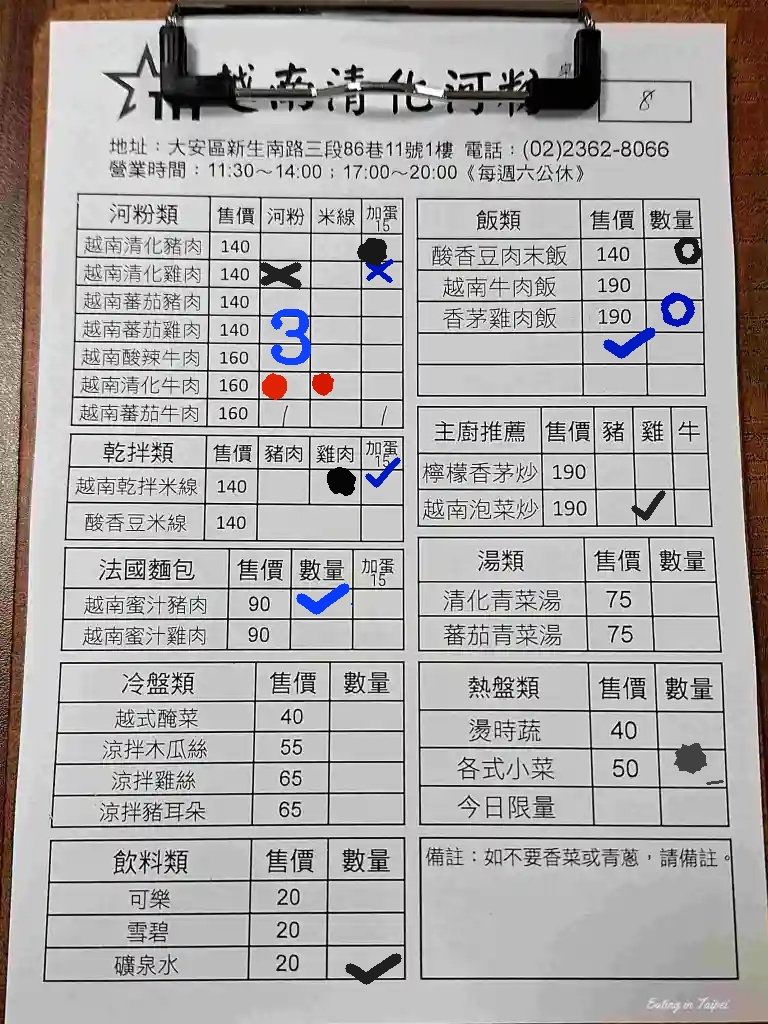marked_circle: (657, 748, 726, 783), (309, 469, 361, 502), (260, 371, 309, 399), (311, 371, 360, 399), (362, 232, 402, 262)
marked_hollow: (642, 239, 702, 269), (643, 299, 703, 329)
marked_number_3: (259, 316, 308, 344)
marked_tick: (330, 949, 399, 984), (290, 587, 352, 617), (585, 331, 645, 361), (635, 488, 675, 525), (361, 468, 401, 505)
marked_x: (262, 258, 311, 286), (363, 260, 403, 290)
